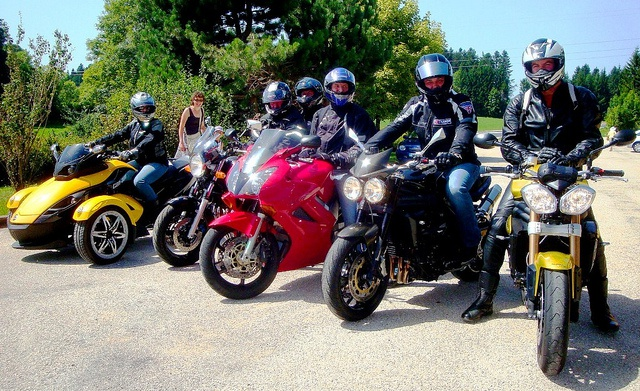non-vehicle: (473, 128, 635, 375), (319, 112, 502, 321), (198, 127, 345, 298), (5, 142, 193, 264), (151, 118, 263, 266)
